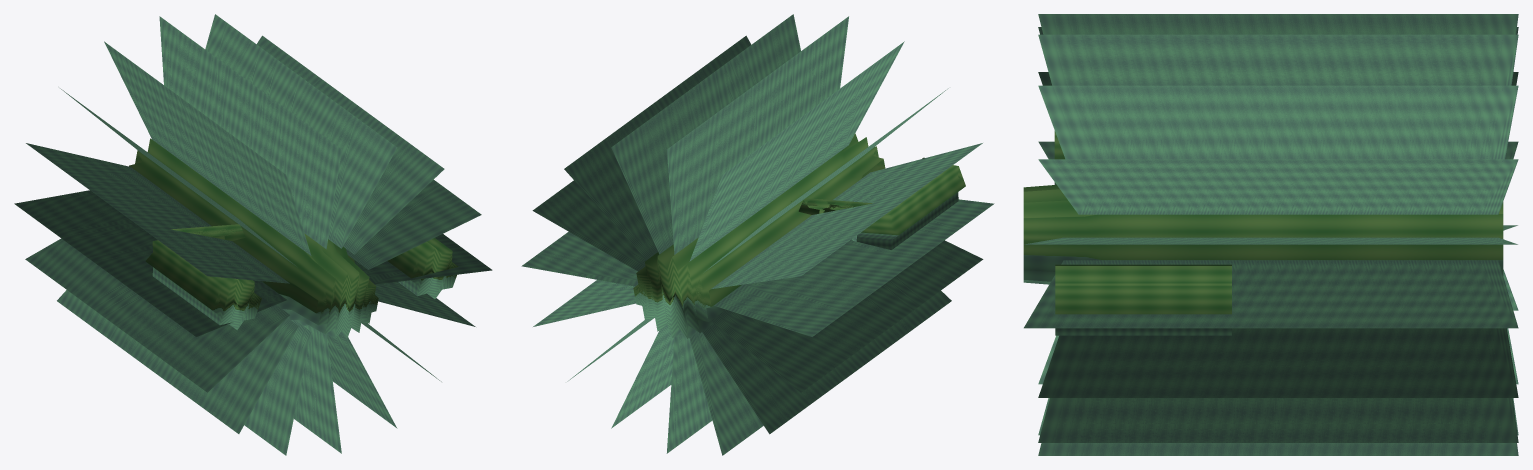
Rendered from veg_succulent_echeveria_01.glb.
3 renders of one model, left to right at view 1: azimuth 30°, elevation 25°; view 2: azimuth 150°, elevation 25°; view 3: azimuth 270°, elevation 25°, orthographic. The views are drawn at different scales.
Visible parts, largest first — view 1: veg_succulent_echeveria_01; view 2: veg_succulent_echeveria_01; view 3: veg_succulent_echeveria_01.
Part boxes in pixels (x1,y1,x2,y2): veg_succulent_echeveria_01: (14,14,492,455); veg_succulent_echeveria_01: (521,14,994,455); veg_succulent_echeveria_01: (1023,14,1518,455).
Bounding box in the file's own units: 0.2233 × 0.2233 × 0.25.
1 material, 1 textured.
